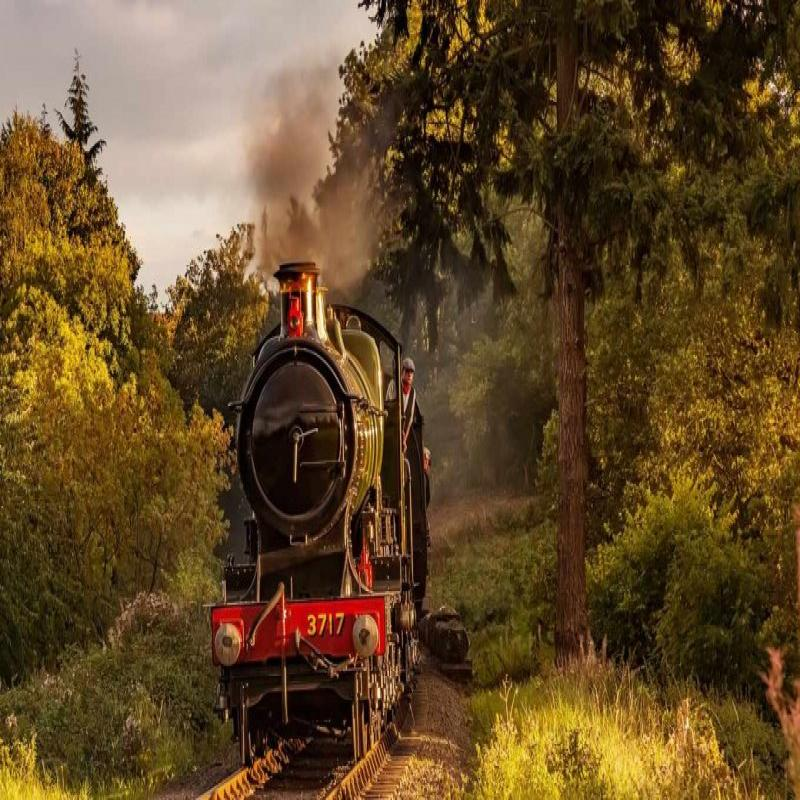train: (214, 256, 404, 753)
